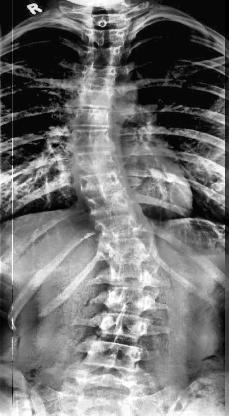Vertebrae: (87, 340, 147, 374), (86, 189, 142, 217), (99, 315, 153, 343), (103, 235, 163, 260), (106, 289, 162, 315), (75, 172, 133, 196), (93, 215, 158, 235), (110, 263, 156, 285), (73, 127, 119, 149), (88, 24, 130, 48), (74, 107, 117, 129), (80, 65, 121, 87), (75, 88, 117, 108), (74, 152, 124, 168), (84, 46, 126, 64), (88, 14, 132, 26)
